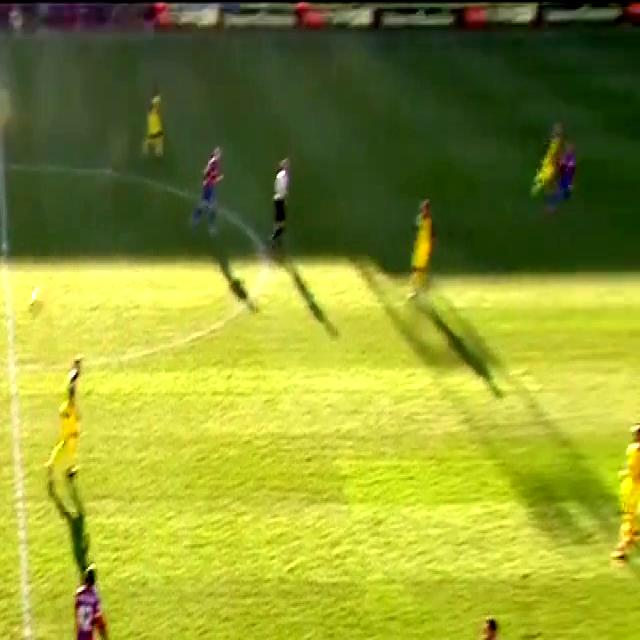ball: (268, 148, 294, 257)
soccer-player: (46, 359, 88, 485), (526, 117, 580, 210), (608, 416, 640, 570), (188, 141, 232, 239), (56, 569, 115, 640), (406, 196, 440, 298), (138, 89, 171, 166), (455, 611, 522, 640)
